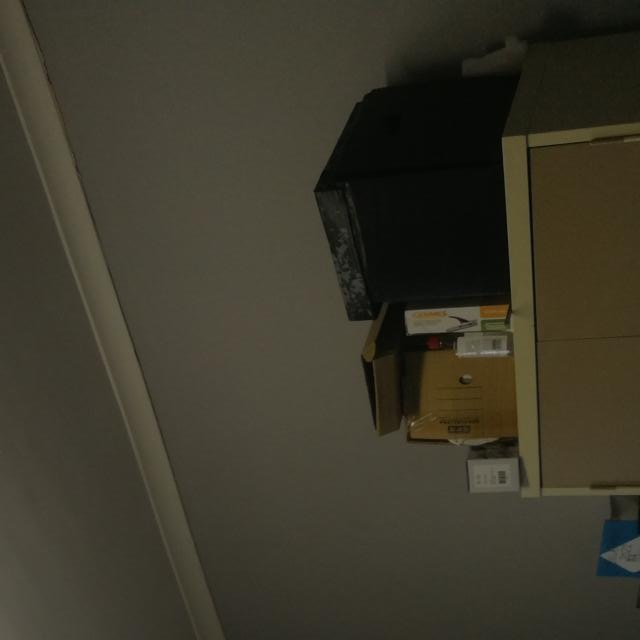fluorescent tube: (0, 327, 31, 640)
